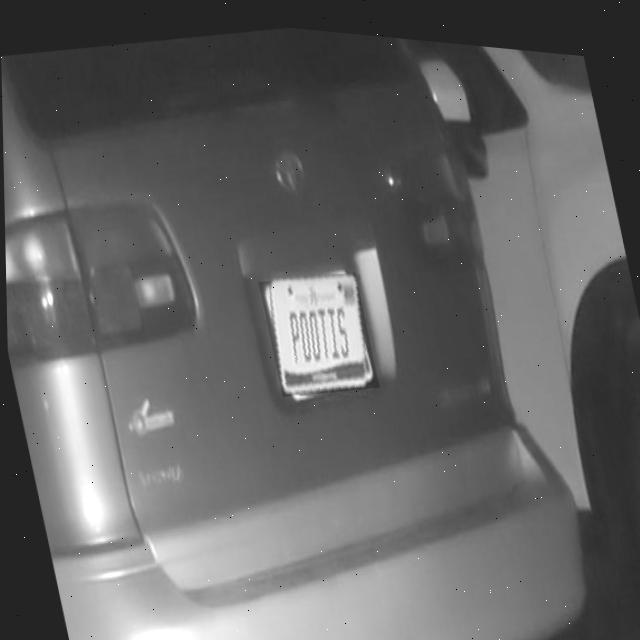LicensePlate: (268, 267, 368, 390)
